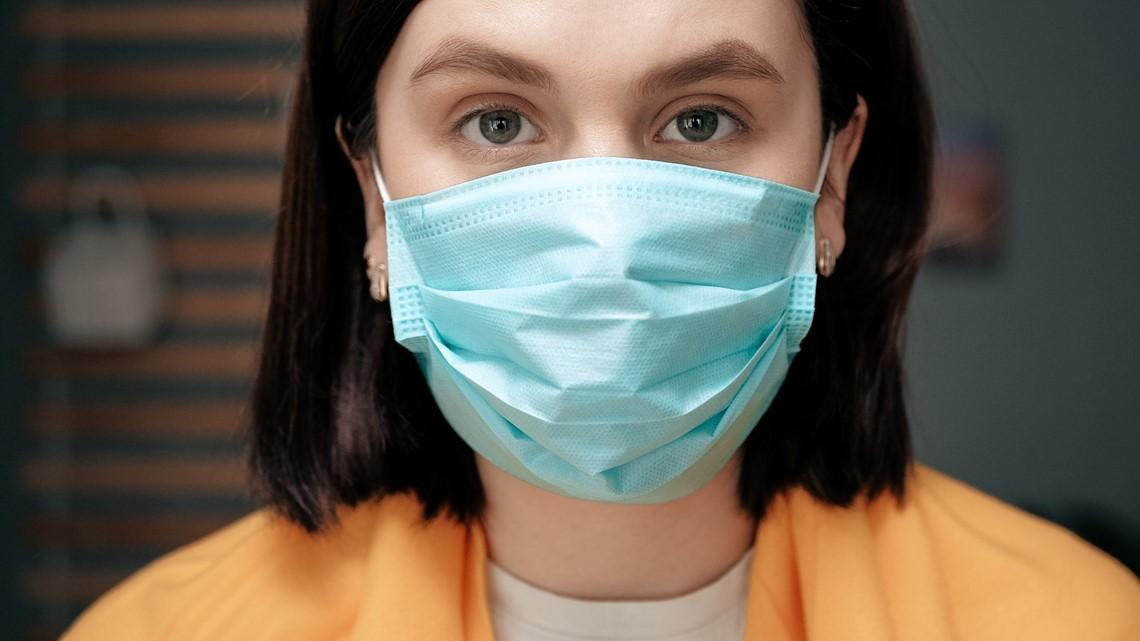mask: (365, 135, 827, 512)
